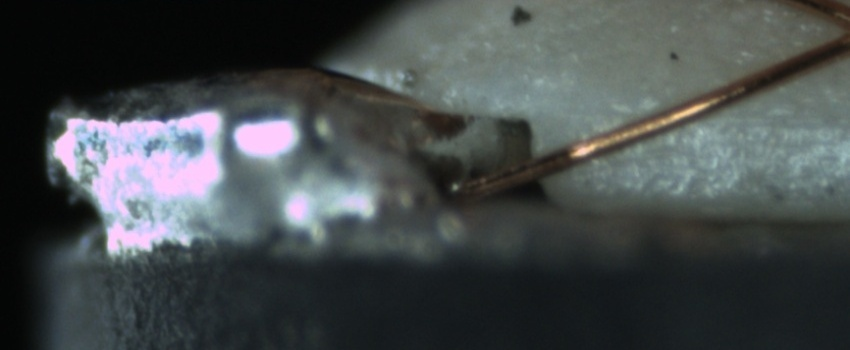CL: (826, 4, 850, 56)
DL: (614, 85, 850, 153)
